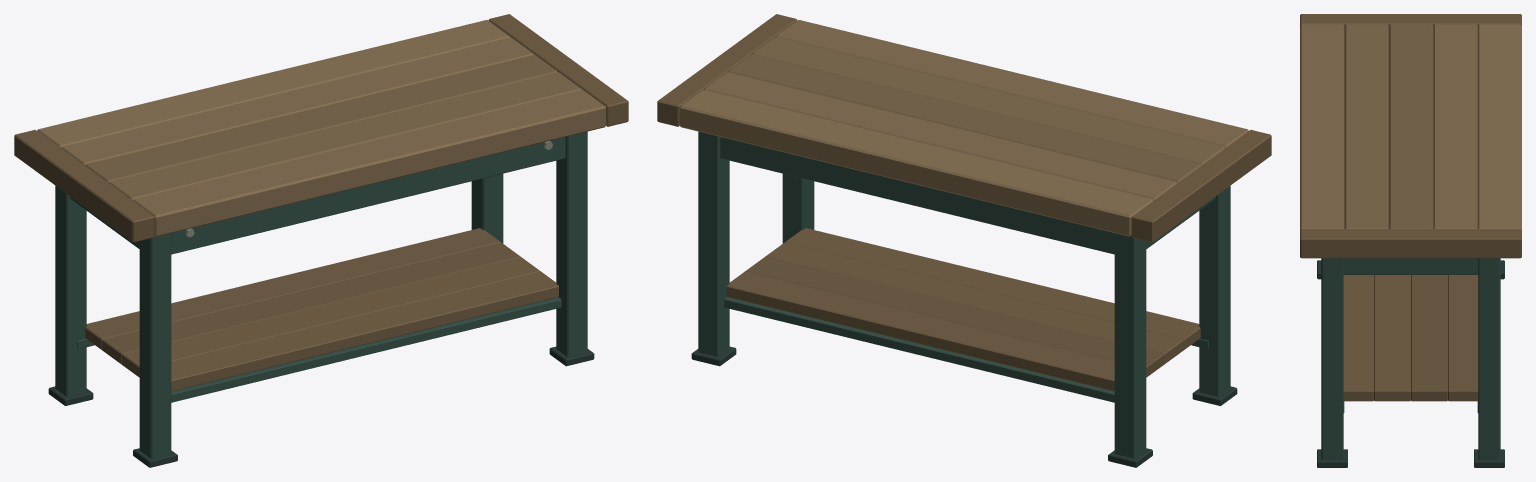
The model's file is SM_Henhouse_Workbench_A.fbx.
3 renders of one model, left to right at view 1: azimuth 30°, elevation 25°; view 2: azimuth 150°, elevation 25°; view 3: azimuth 270°, elevation 25°, orthographic. The views are drawn at different scales.
Parts seen in each view (by area): view 1: SM_Henhouse_Workbench_A; view 2: SM_Henhouse_Workbench_A; view 3: SM_Henhouse_Workbench_A.
Part boxes in pixels (x1,y1,x2,y2): SM_Henhouse_Workbench_A: [14, 14, 628, 467]; SM_Henhouse_Workbench_A: [657, 14, 1271, 467]; SM_Henhouse_Workbench_A: [1300, 14, 1521, 467].
Size of what is drawn, in the model's own units: 75 by 180 by 90.
